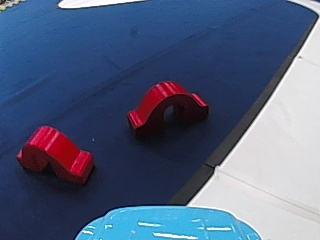bridge: (121, 75, 212, 140), (14, 122, 99, 188)
